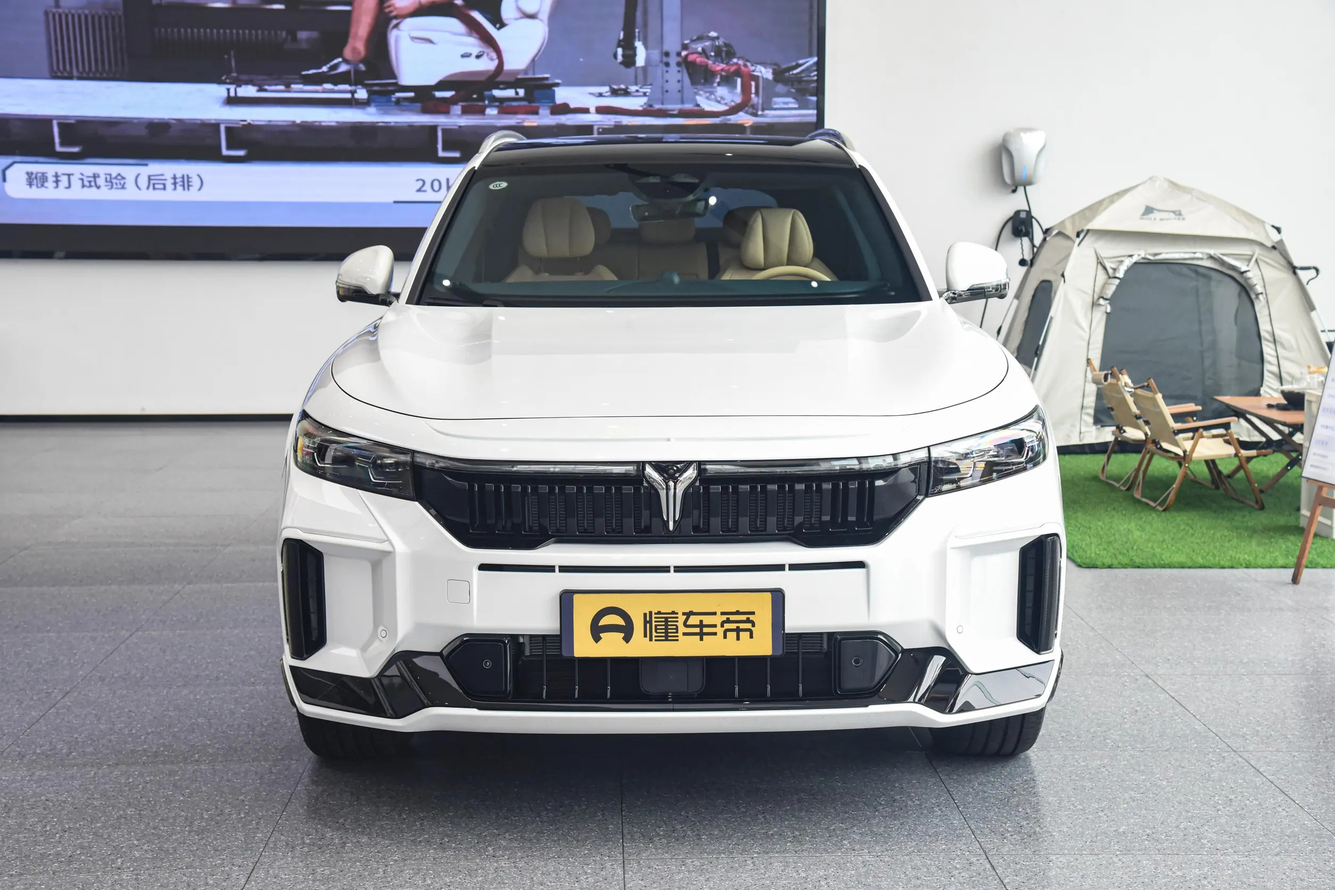VOYAH: (645, 464, 695, 530)
